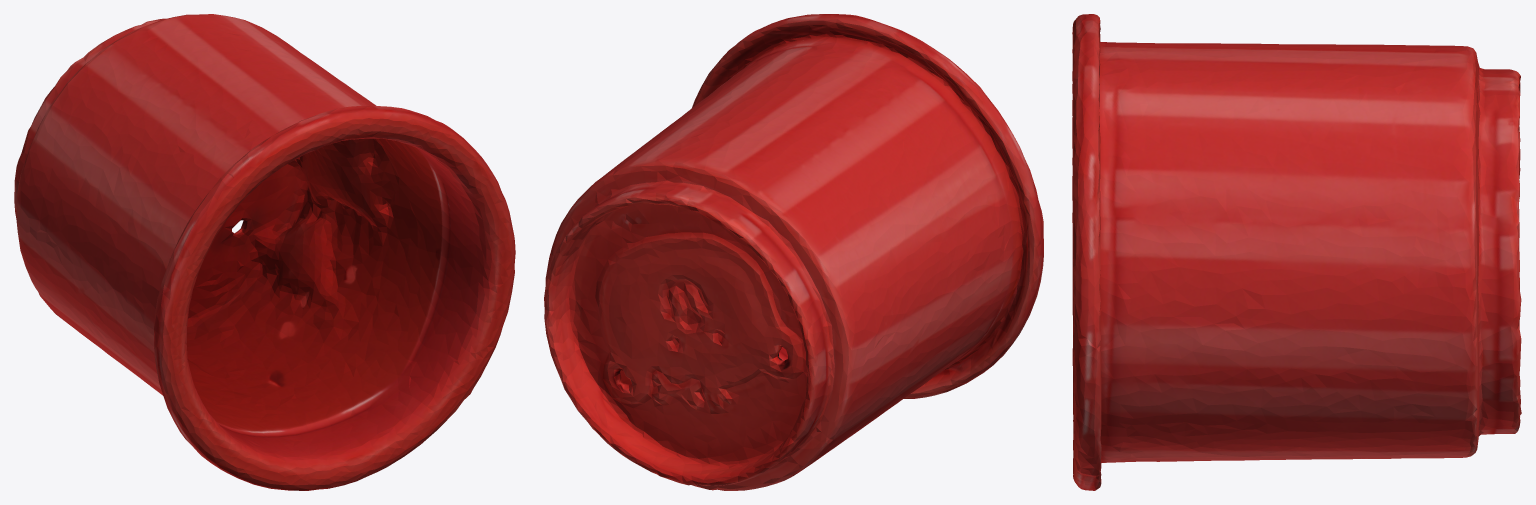
The picture shows the model from 3 angles, left to right: view 1: azimuth 30°, elevation 25°; view 2: azimuth 150°, elevation 25°; view 3: azimuth 270°, elevation 25°; orthographic projection. The views are drawn at different scales.
Visible parts, largest first — view 1: node; view 2: node; view 3: node.
Boxes of the visible parts, x1=… form: node: x1=14, y1=14, x2=515, y2=490; node: x1=544, y1=14, x2=1043, y2=490; node: x1=1072, y1=14, x2=1521, y2=490.
Bounding box in the file's own units: 0.0755 × 0.0753 × 0.0708.
Materials: 1 (1 with a texture image).
